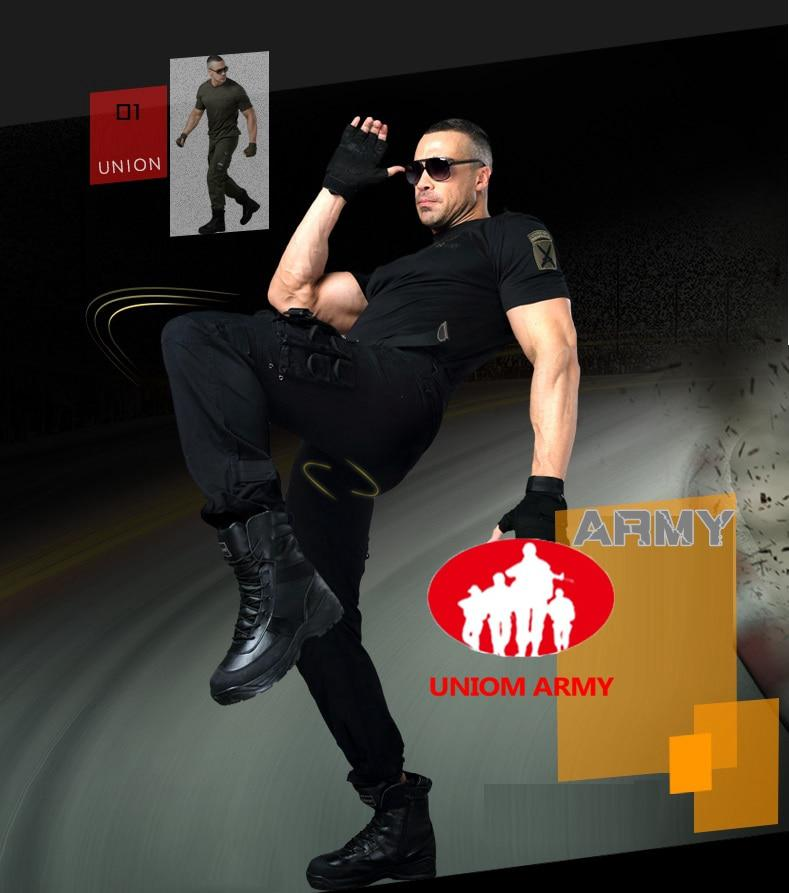pants: (163, 311, 432, 798)
